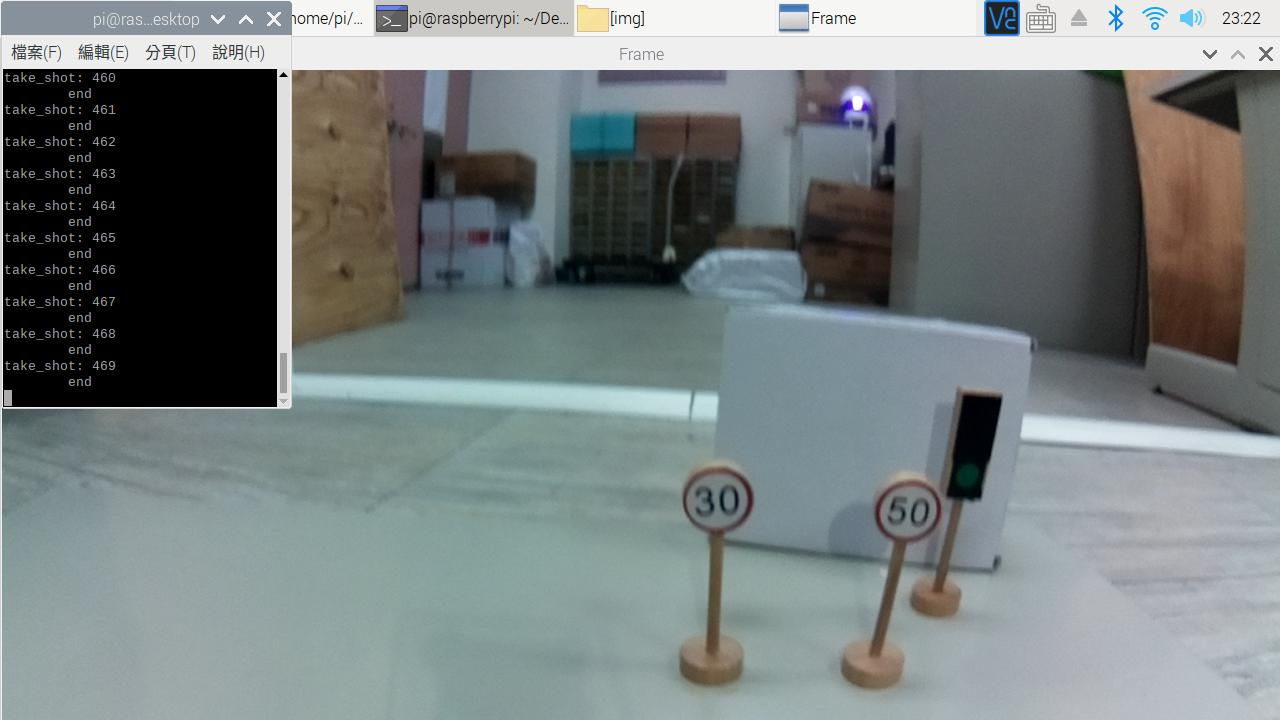Green: (948, 385, 1000, 507)
Speed30: (683, 461, 760, 534)
Speed50: (873, 477, 946, 551)
